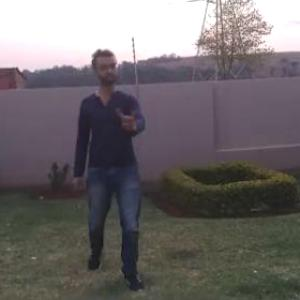takeoff-hand: (112, 99, 142, 132)
